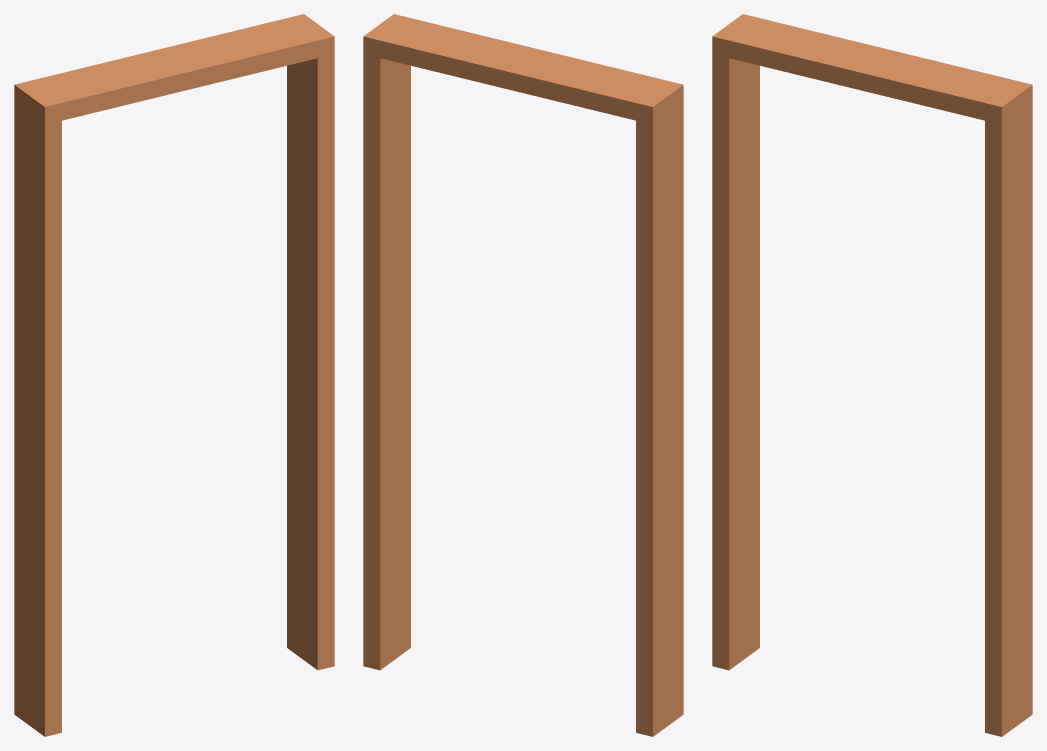
File: doorwayOpen.fbx
3 renders of one model, left to right at view 1: azimuth 30°, elevation 25°; view 2: azimuth 150°, elevation 25°; view 3: azimuth 330°, elevation 25°, orthographic.
Visible parts, largest first — view 1: doorwayOpen; view 2: doorwayOpen; view 3: doorwayOpen.
Part boxes in pixels (box(x1,y1,x2,y2)): doorwayOpen: box(14, 14, 334, 736); doorwayOpen: box(363, 14, 683, 736); doorwayOpen: box(712, 14, 1032, 736).
Bounding box in the file's own units: 4.86 × 10.1 × 0.891.
